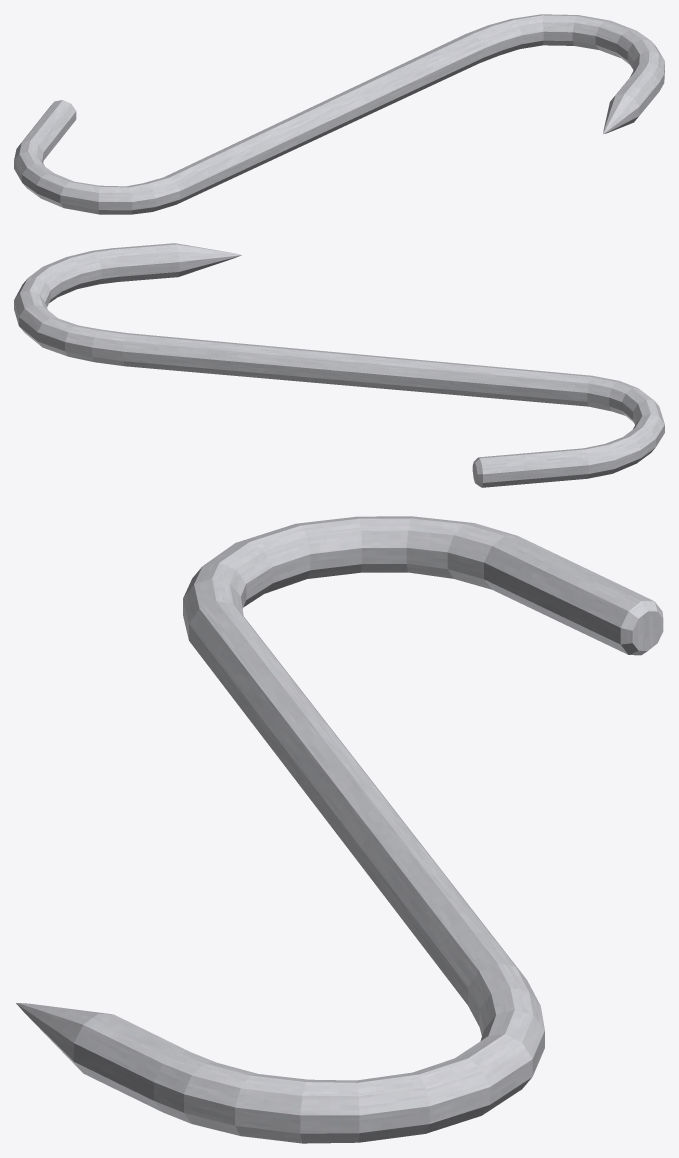
File: WorldItem_MeatHook.fbx
The picture shows the model from 3 angles, top to bottom: view 1: azimuth 30°, elevation 25°; view 2: azimuth 150°, elevation 25°; view 3: azimuth 270°, elevation 25°; orthographic projection. The views are drawn at different scales.
Visible parts, largest first — view 1: ZomboidMeatHook; view 2: ZomboidMeatHook; view 3: ZomboidMeatHook.
Part boxes in pixels (x1=…): ZomboidMeatHook: x1=14, y1=14, x2=664, y2=214; ZomboidMeatHook: x1=14, y1=243, x2=664, y2=487; ZomboidMeatHook: x1=16, y1=516, x2=663, y2=1143.
Size of the model in its own units: 0.2647 by 0.0126 by 0.1225.
